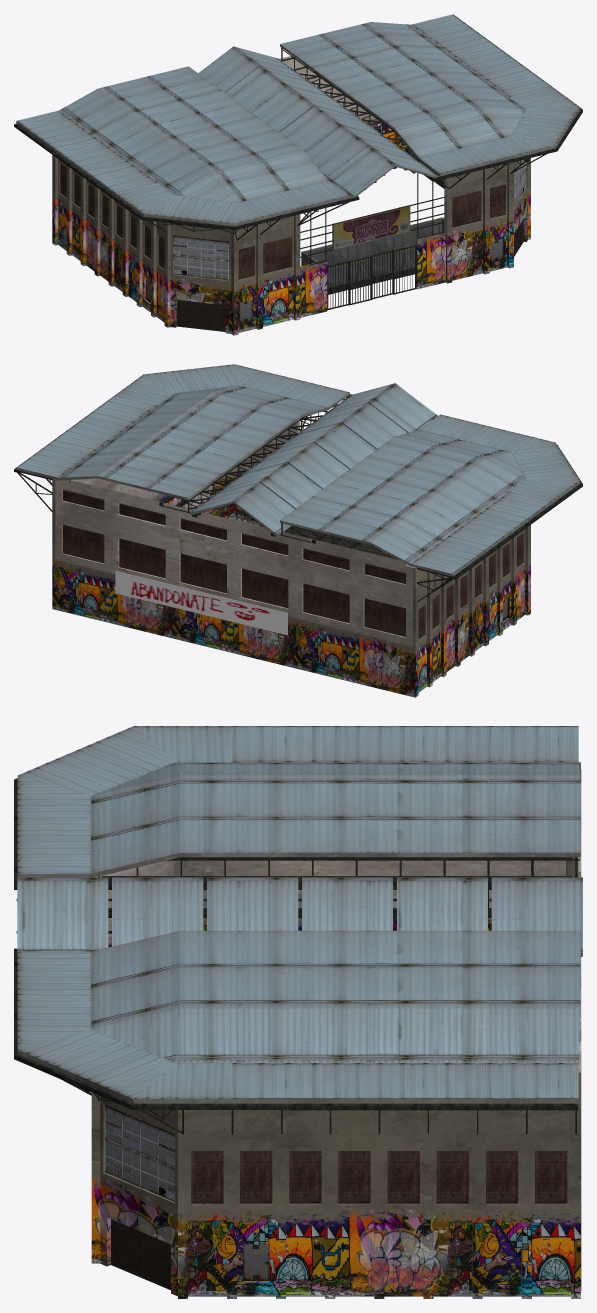
Rendered from market.FBX.
3 views of the same model, one above another, from view 1: azimuth 30°, elevation 25°; view 2: azimuth 150°, elevation 25°; view 3: azimuth 270°, elevation 25° (orthographic). The views are drawn at different scales.
Parts seen in each view (by area): view 1: Object010, Object011; view 2: Object010, Plane001, Object011; view 3: Object010, Object011.
Boxes of the visible parts, bbox=[...] form: Object010: bbox=[16, 14, 580, 335]; Object011: bbox=[14, 57, 582, 240]; Object010: bbox=[16, 364, 580, 697]; Plane001: bbox=[115, 570, 287, 635]; Object011: bbox=[14, 394, 582, 602]; Object010: bbox=[14, 726, 582, 1298]; Object011: bbox=[14, 778, 582, 1134].
Size of the model in its own units: 739 by 243 by 471.
